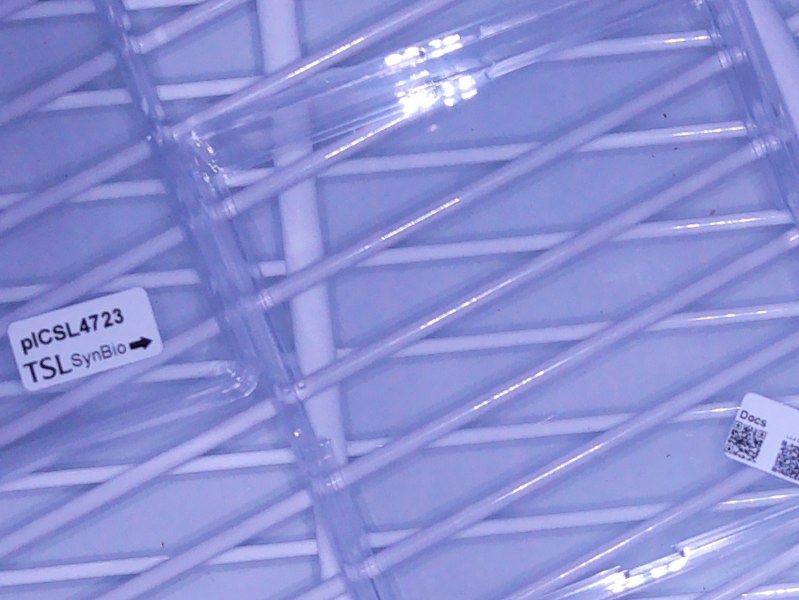plate: (183, 2, 799, 597), (1, 1, 269, 484)
